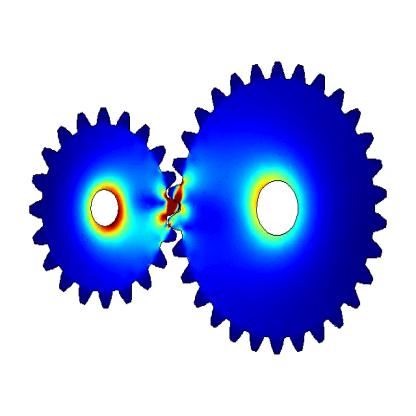FOD: (162, 55, 390, 358), (30, 99, 181, 314)
